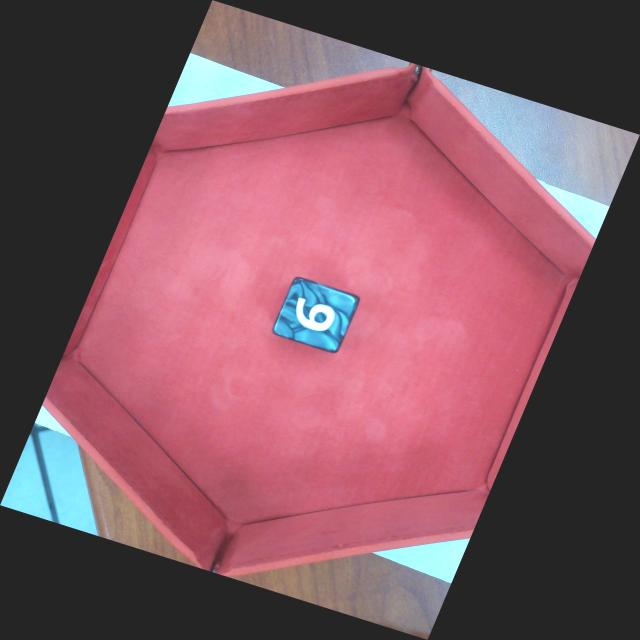dice: (269, 274, 362, 357)
